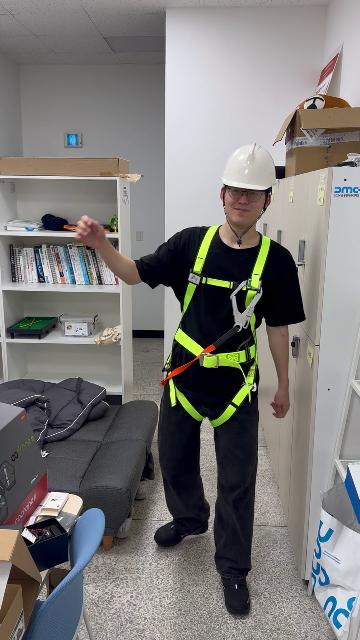helmet_worn: (218, 143, 280, 191)
shoe_not_worn: (135, 480, 147, 500)
shoe_worn: (154, 518, 208, 547), (220, 573, 250, 616)
vest_worn: (161, 230, 268, 411)
